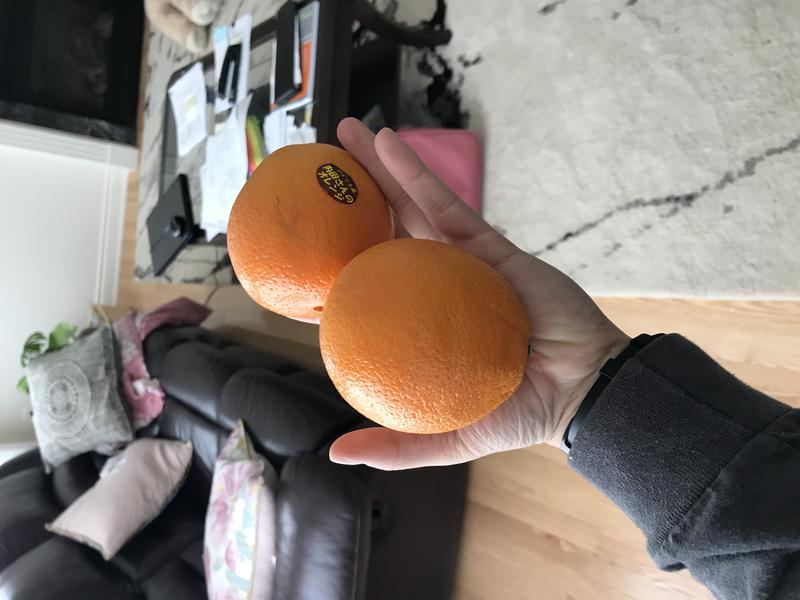orange: (316, 229, 539, 440), (218, 136, 408, 330)
